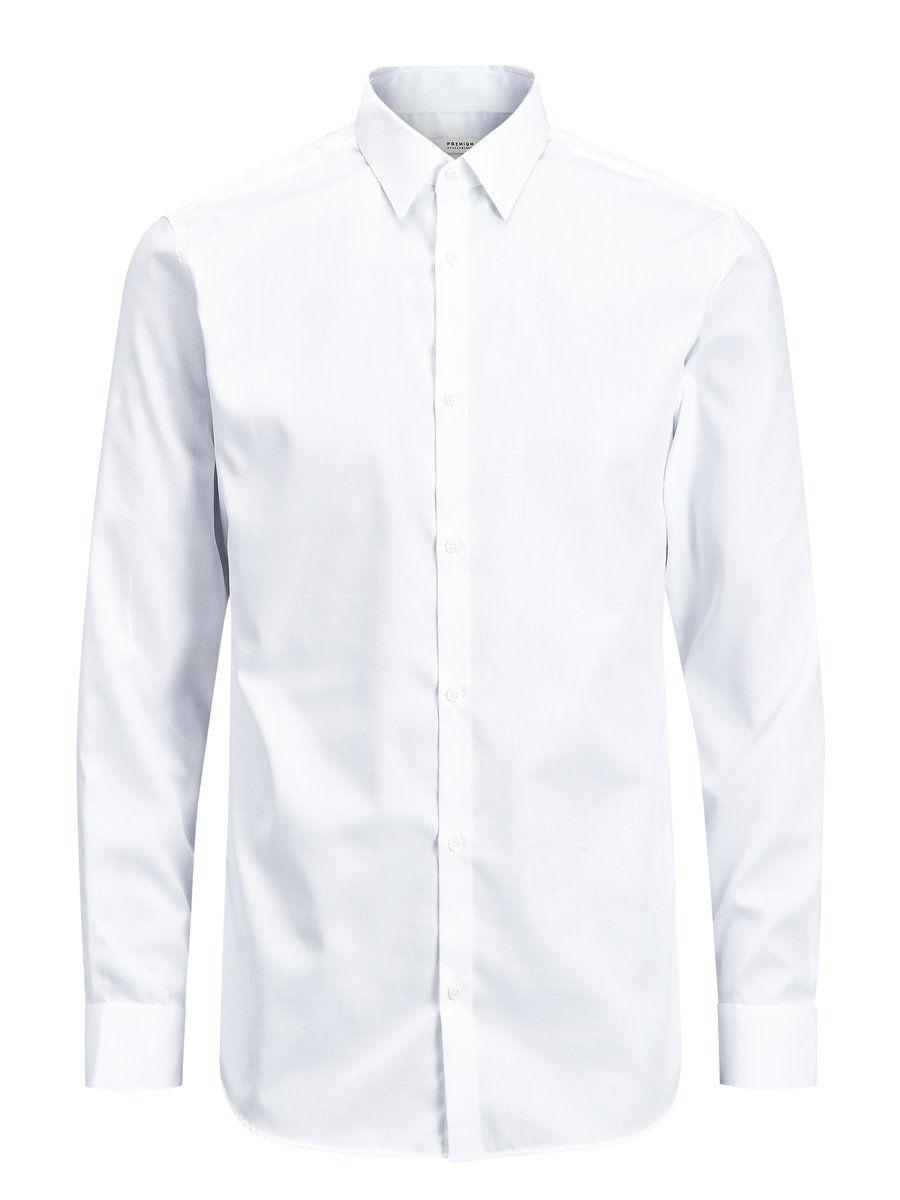teeshirt: (65, 43, 838, 1156)
